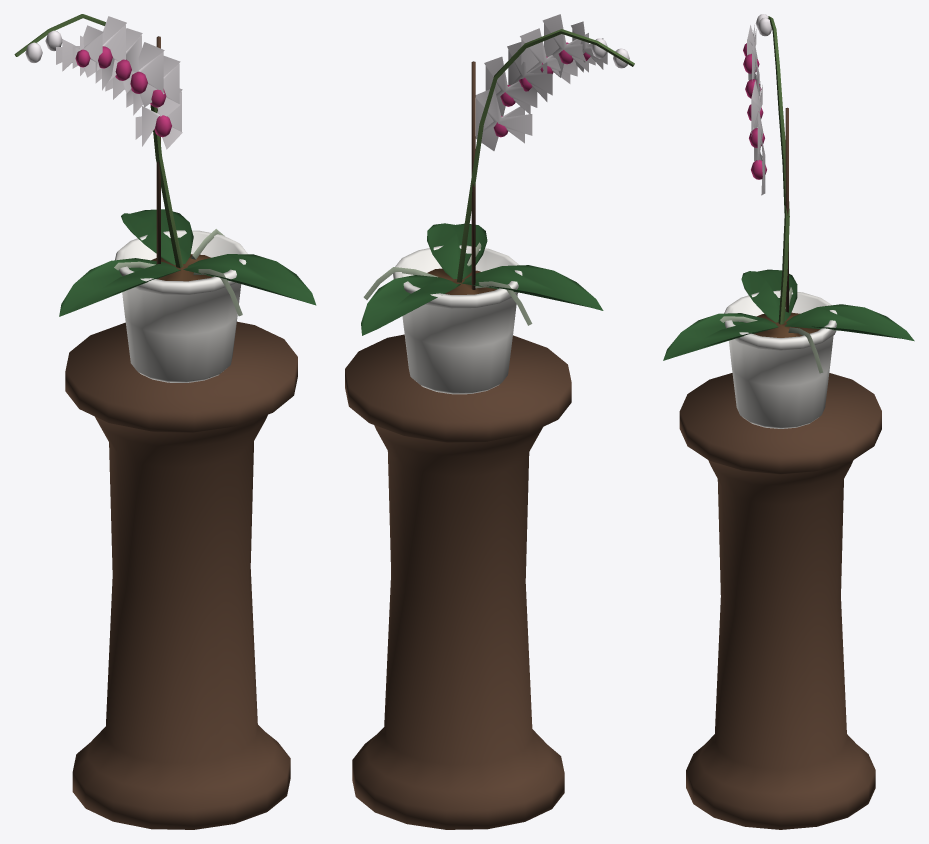
Rendered from orchid.glb.
3 renders of one model, left to right at view 1: azimuth 30°, elevation 25°; view 2: azimuth 150°, elevation 25°; view 3: azimuth 270°, elevation 25°, orthographic. The views are drawn at different scales.
Visible parts, largest first — view 1: orchid; view 2: orchid; view 3: orchid.
Part boxes in pixels (<box>): orchid: <box>14,14,316,829</box>; orchid: <box>345,14,634,829</box>; orchid: <box>663,14,914,829</box>.
Size of the model in its own units: 0.431 by 1.2 by 0.381.
